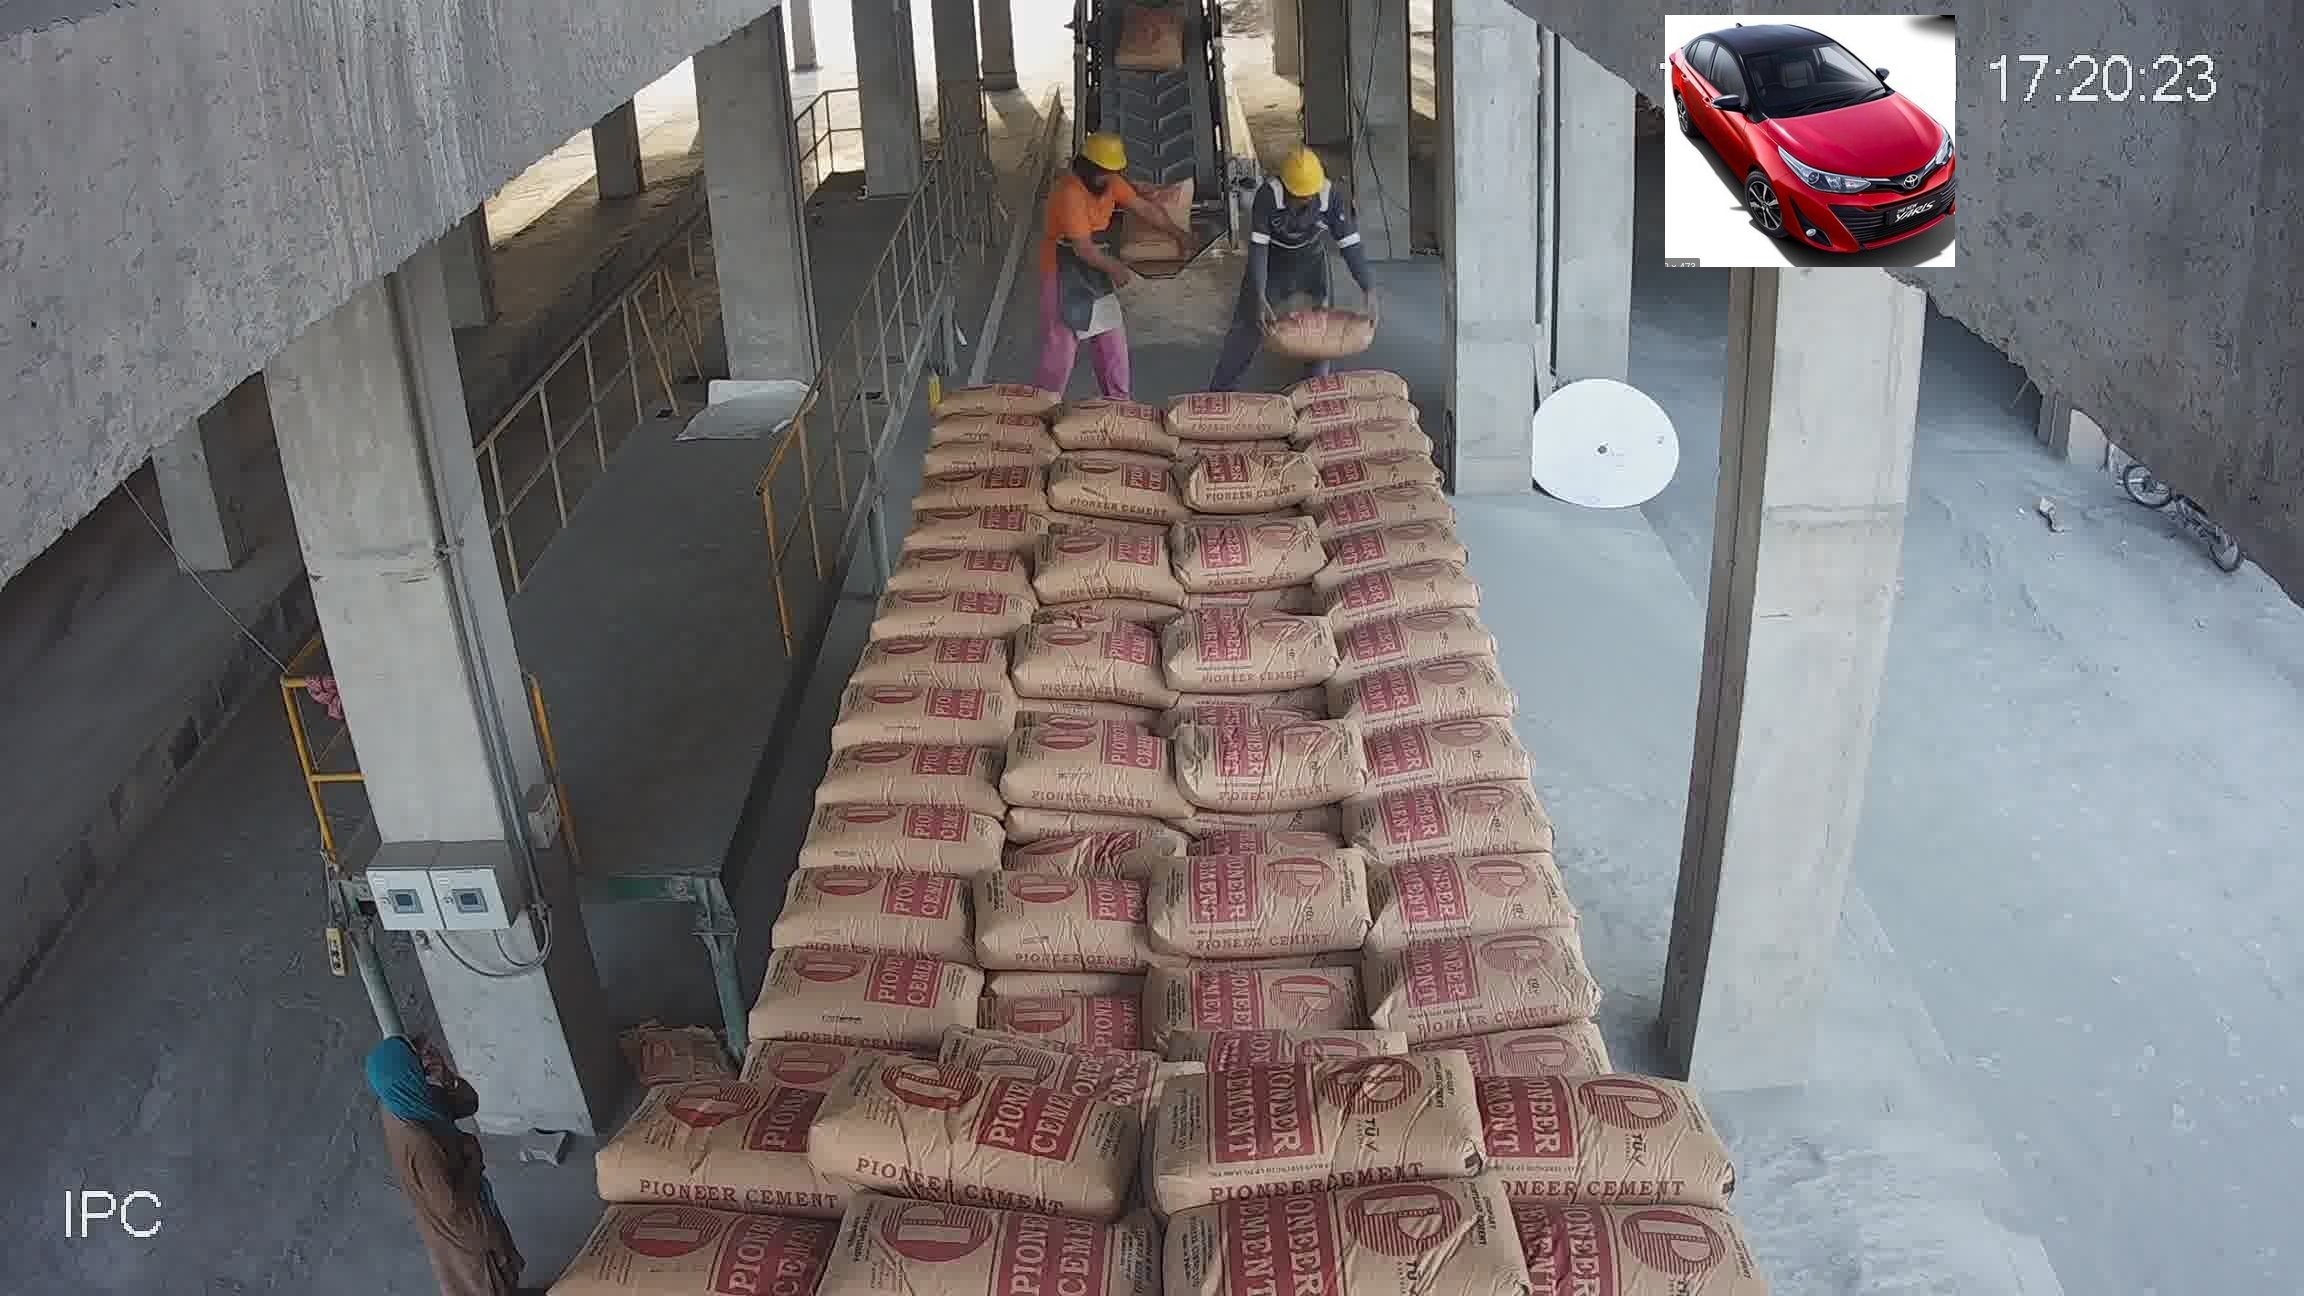bag: (1111, 464, 1239, 620)
bag_h: (1165, 1025, 1503, 1211), (810, 1078, 1176, 1204), (1173, 1168, 1532, 1296), (1138, 918, 1442, 1067), (837, 943, 1176, 1070), (642, 951, 889, 1101), (815, 1204, 1199, 1296), (1484, 1067, 1725, 1206), (574, 1180, 855, 1285), (601, 1087, 818, 1217), (1462, 951, 1692, 1073), (1522, 1195, 1775, 1296), (1133, 864, 1443, 935), (916, 892, 1131, 968), (1136, 771, 1264, 877), (788, 850, 951, 930), (791, 783, 957, 859), (714, 916, 902, 975), (1426, 904, 1628, 953), (1165, 714, 1275, 791), (798, 741, 956, 793), (1445, 850, 1552, 919), (1173, 668, 1268, 736), (847, 638, 970, 690), (837, 687, 945, 745), (856, 578, 957, 638), (1287, 318, 1393, 353)
belt: (997, 14, 1307, 619)
